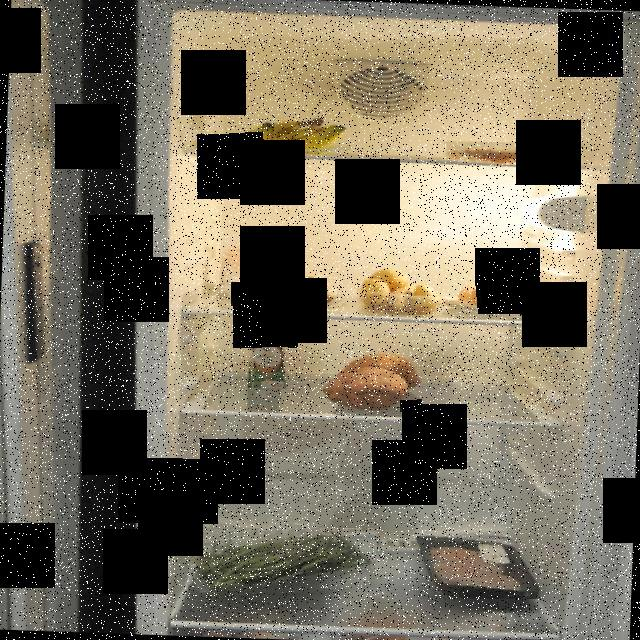banana: (219, 118, 351, 158)
bread: (239, 273, 346, 311)
chicken_breast: (414, 531, 544, 599)
eggs: (450, 279, 540, 319)
flour: (216, 232, 302, 307)
green_beans: (188, 528, 378, 602)
heavy_cream: (246, 324, 288, 390)
potato: (356, 264, 444, 315)
shrimp: (440, 143, 552, 165)
sweet_potato: (324, 350, 424, 416)
